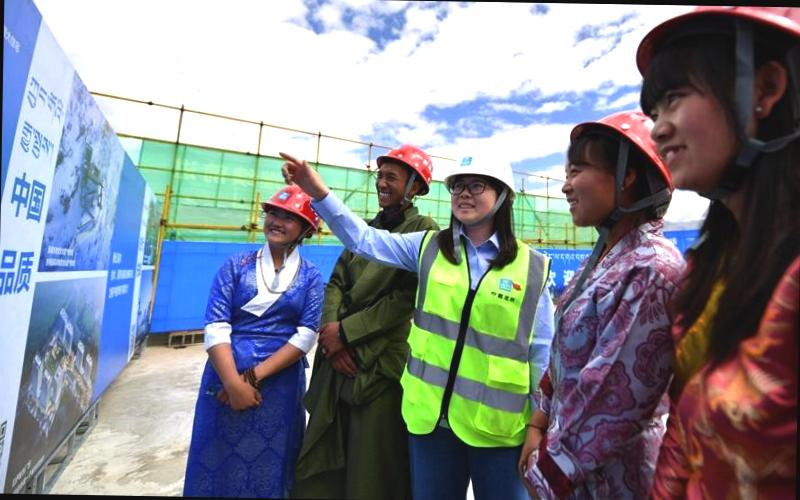helmet: (261, 184, 335, 236), (378, 136, 439, 182), (444, 144, 513, 183)
no_vest: (561, 233, 675, 421), (228, 246, 311, 362)
person: (634, 7, 800, 500), (541, 94, 692, 500), (392, 146, 561, 500), (188, 175, 330, 499), (328, 132, 441, 500)
